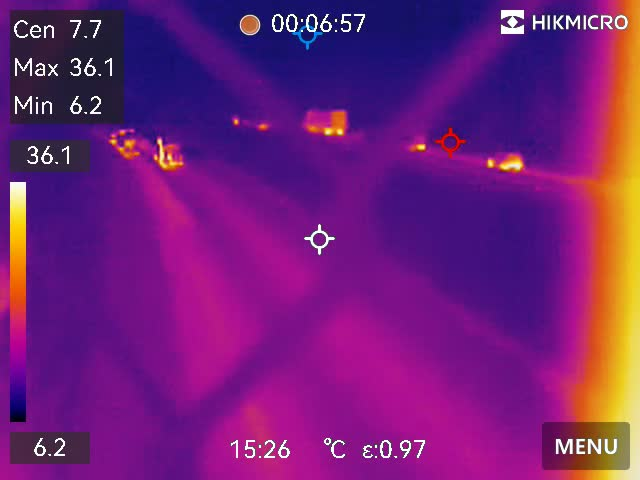heavyTruck: (292, 109, 350, 136)
